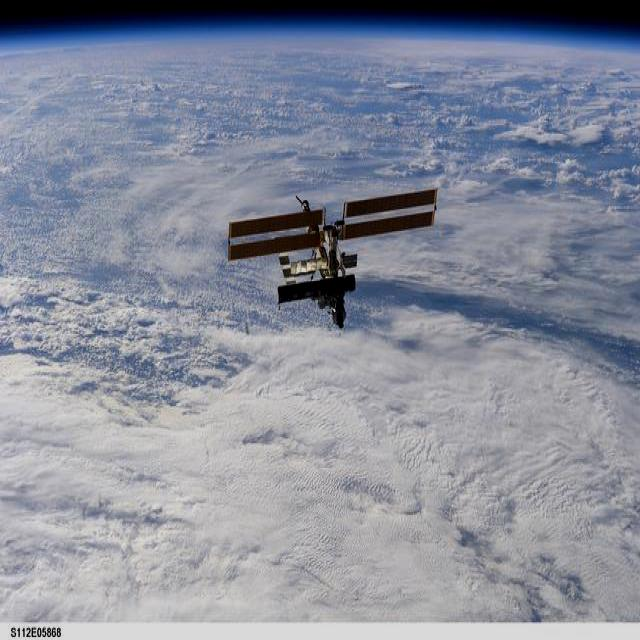medium_debris: (229, 189, 438, 327)
